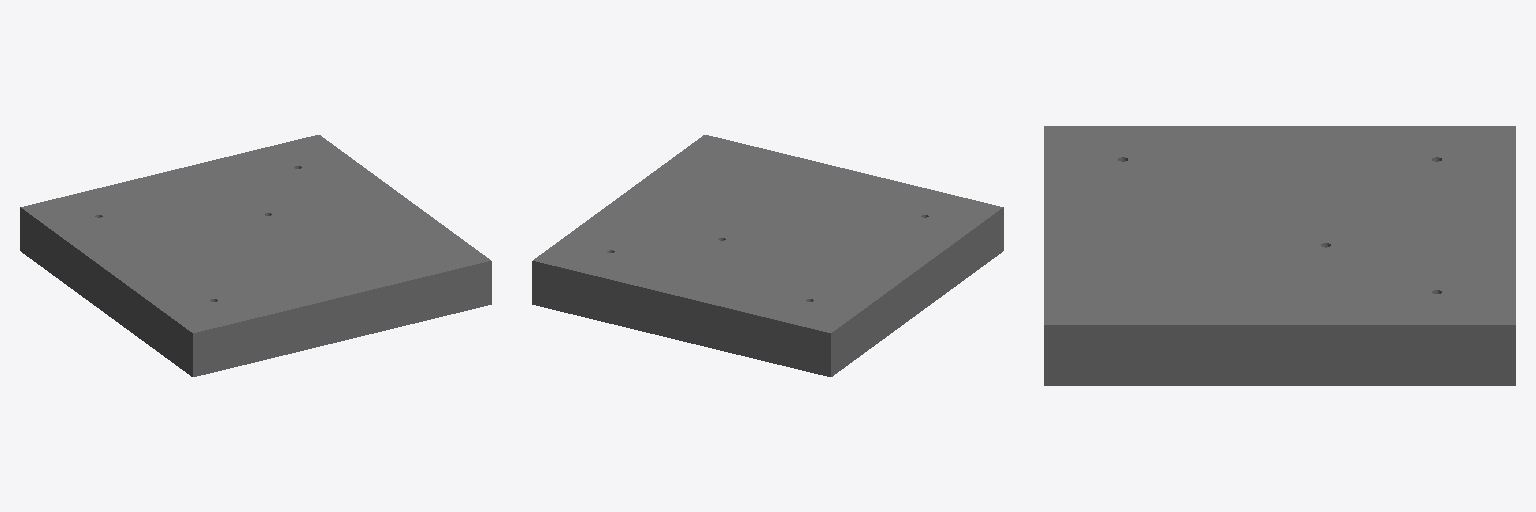
robot.urdf — push_object:
<?xml version="1.0" ?>
<robot name="push_object">
  <link name="link_x">
    <inertial>
      <mass value="0"/>
      <inertia ixx="0.0" ixy="0.0" ixz="0.0" iyy="0.0" iyz="0.0" izz="0.0"/>
    </inertial>
  </link>

  <link name="link_y">
    <inertial>
      <mass value="0"/>
      <inertia ixx="0.0" ixy="0.0" ixz="0.0" iyy="0.0" iyz="0.0" izz="0.0"/>
    </inertial>
  </link>
  
  <link name="link_z">
    <inertial>
      <mass value="0"/>
      <inertia ixx="0.0" ixy="0.0" ixz="0.0" iyy="0.0" iyz="0.0" izz="0.0"/>
    </inertial>
  </link>
  
  <link name="link_yaw">
    <inertial>
      <mass value="0"/>
      <inertia ixx="0.0" ixy="0.0" ixz="0.0" iyy="0.0" iyz="0.0" izz="0.0"/>
    </inertial>
  </link>

  <link name="link_object">
    <contact>
      <rolling_friction value="0.03"/>
      <spinning_friction value="0.03"/>
    </contact>

    <inertial>
      <origin rpy="0 0 0" xyz="0 0 0"/>
       <mass value="0.006350"/>
       <inertia ixx="0.837000" ixy="0" ixz="0" iyy="0.001130" iyz="0" izz="1"/>
    </inertial>
    <visual>
      <origin rpy="0 0 0" xyz="0 0 0.001130"/>
      <geometry>
        <mesh filename="rect1.obj" scale="1.0 1.0 1.0"/>      
      </geometry>
      <material name="gray">
        <color rgba="0.5 0.5 0.5 1"/>
        <specular rgb="1 1 1"/>
      </material>
    </visual>
    
    <collision>
      <origin rpy="0 0 0" xyz="-0.0400 -0.0400 -0.0063"/>
      <geometry>
        <sphere radius="0.0065"/>
      </geometry>
    </collision>
        
    <collision>
      <origin rpy="0 0 0" xyz="-0.0400 -0.0200 -0.0063"/>
      <geometry>
        <sphere radius="0.0065"/>
      </geometry>
    </collision>
        
    <collision>
      <origin rpy="0 0 0" xyz="-0.0400 0.0000 -0.0063"/>
      <geometry>
        <sphere radius="0.0065"/>
      </geometry>
    </collision>
        
    <collision>
      <origin rpy="0 0 0" xyz="-0.0400 0.0200 -0.0063"/>
      <geometry>
        <sphere radius="0.0065"/>
      </geometry>
    </collision>
        
    <collision>
      <origin rpy="0 0 0" xyz="-0.0400 0.0400 -0.0063"/>
      <geometry>
        <sphere radius="0.0065"/>
      </geometry>
    </collision>
        
    <collision>
      <origin rpy="0 0 0" xyz="-0.0200 -0.0400 -0.0063"/>
      <geometry>
        <sphere radius="0.0065"/>
      </geometry>
    </collision>
        
    <collision>
      <origin rpy="0 0 0" xyz="-0.0200 -0.0200 -0.0063"/>
      <geometry>
        <sphere radius="0.0065"/>
      </geometry>
    </collision>
        
    <collision>
      <origin rpy="0 0 0" xyz="-0.0200 0.0000 -0.0063"/>
      <geometry>
        <sphere radius="0.0065"/>
      </geometry>
    </collision>
        
    <collision>
      <origin rpy="0 0 0" xyz="-0.0200 0.0200 -0.0063"/>
      <geometry>
        <sphere radius="0.0065"/>
      </geometry>
    </collision>
        
    <collision>
      <origin rpy="0 0 0" xyz="-0.0200 0.0400 -0.0063"/>
      <geometry>
        <sphere radius="0.0065"/>
      </geometry>
    </collision>
        
    <collision>
      <origin rpy="0 0 0" xyz="0.0000 -0.0400 -0.0063"/>
      <geometry>
        <sphere radius="0.0065"/>
      </geometry>
    </collision>
        
    <collision>
      <origin rpy="0 0 0" xyz="0.0000 -0.0200 -0.0063"/>
      <geometry>
        <sphere radius="0.0065"/>
      </geometry>
    </collision>
        
    <collision>
      <origin rpy="0 0 0" xyz="0.0000 0.0000 -0.0063"/>
      <geometry>
        <sphere radius="0.0065"/>
      </geometry>
    </collision>
        
    <collision>
      <origin rpy="0 0 0" xyz="0.0000 0.0200 -0.0063"/>
      <geometry>
        <sphere radius="0.0065"/>
      </geometry>
    </collision>
        
    <collision>
      <origin rpy="0 0 0" xyz="0.0000 0.0400 -0.0063"/>
      <geometry>
        <sphere radius="0.0065"/>
      </geometry>
    </collision>
        
    <collision>
      <origin rpy="0 0 0" xyz="0.0200 -0.0400 -0.0063"/>
      <geometry>
        <sphere radius="0.0065"/>
      </geometry>
    </collision>
        
    <collision>
      <origin rpy="0 0 0" xyz="0.0200 -0.0200 -0.0063"/>
      <geometry>
        <sphere radius="0.0065"/>
      </geometry>
    </collision>
        
    <collision>
      <origin rpy="0 0 0" xyz="0.0200 0.0000 -0.0063"/>
      <geometry>
        <sphere radius="0.0065"/>
      </geometry>
    </collision>
        
    <collision>
      <origin rpy="0 0 0" xyz="0.0200 0.0200 -0.0063"/>
      <geometry>
        <sphere radius="0.0065"/>
      </geometry>
    </collision>
        
    <collision>
      <origin rpy="0 0 0" xyz="0.0200 0.0400 -0.0063"/>
      <geometry>
        <sphere radius="0.0065"/>
      </geometry>
    </collision>
        
    <collision>
      <origin rpy="0 0 0" xyz="0.0400 -0.0400 -0.0063"/>
      <geometry>
        <sphere radius="0.0065"/>
      </geometry>
    </collision>
        
    <collision>
      <origin rpy="0 0 0" xyz="0.0400 -0.0200 -0.0063"/>
      <geometry>
        <sphere radius="0.0065"/>
      </geometry>
    </collision>
        
    <collision>
      <origin rpy="0 0 0" xyz="0.0400 0.0000 -0.0063"/>
      <geometry>
        <sphere radius="0.0065"/>
      </geometry>
    </collision>
        
    <collision>
      <origin rpy="0 0 0" xyz="0.0400 0.0200 -0.0063"/>
      <geometry>
        <sphere radius="0.0065"/>
      </geometry>
    </collision>
        
    <collision>
      <origin rpy="0 0 0" xyz="0.0400 0.0400 -0.0063"/>
      <geometry>
        <sphere radius="0.0065"/>
      </geometry>
    </collision>
        
  </link>
  
  <joint name="joint_x" type="prismatic">
    <axis xyz="1 0 0"/>
    <origin xyz="0.0 0.0 0"/>
    <parent link="link_x"/>
    <child link="link_y"/>
    <limit effort="1000.0" lower="-15" upper="15" velocity="5"/>
  </joint>

  <joint name="joint_y" type="prismatic">
    <axis xyz="0 1 0"/>
    <origin xyz="0.0 0.0 0"/>
    <parent link="link_y"/>
    <child link="link_z"/>
    <limit effort="1000.0" lower="-15" upper="15" velocity="5"/>
  </joint>

  <joint name="joint_z" type="prismatic">
    <axis xyz="0 0 1"/>
    <origin xyz="0.0 0.0 0"/>
    <parent link="link_z"/>
    <child link="link_yaw"/>
    <limit effort="1000.0" lower="-15" upper="15" velocity="5"/>
  </joint>

  <joint name="joint_yaw" type="continuous">
    <axis xyz="0 0 1"/>
    <origin xyz="0.0 0.0 0"/>
    <parent link="link_yaw"/>
    <child link="link_object"/>
  </joint>
</robot>

--- Render facts (derived) ---
The picture shows the robot from 3 angles, left to right: view 1: azimuth 30°, elevation 25°; view 2: azimuth 150°, elevation 25°; view 3: azimuth 270°, elevation 25°; orthographic projection.
Robot: push_object — 5 links, 4 joints (1 continuous, 3 prismatic); root link link_x; default pose: every joint at zero.
Links seen in each view (by area): view 1: link_object; view 2: link_object; view 3: link_object.
Boxes of the visible links, bbox=[...] form: link_object: bbox=[20, 135, 491, 376]; link_object: bbox=[532, 135, 1003, 376]; link_object: bbox=[1044, 126, 1515, 385].
Bounding box of the posed robot: 0.09 × 0.09 × 0.0127 m (x, y, z).
Meshes: 1 distinct files referenced, 1 mesh visuals loaded (1 OBJ).